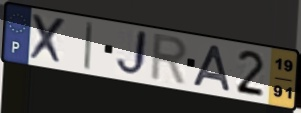2: (235, 49, 268, 100)
A: (190, 43, 234, 94)
I: (82, 20, 95, 73)
J: (113, 28, 150, 80)
R: (148, 31, 191, 88)
X: (28, 12, 69, 68)
